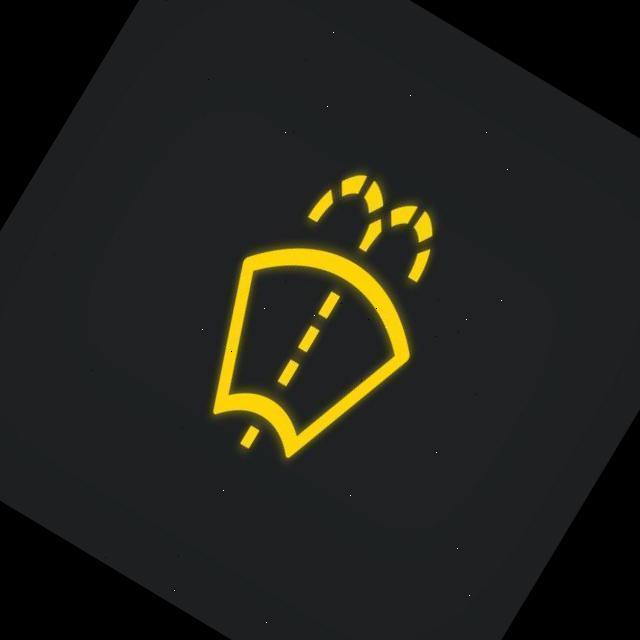Washer Fluid: (211, 174, 435, 462)
